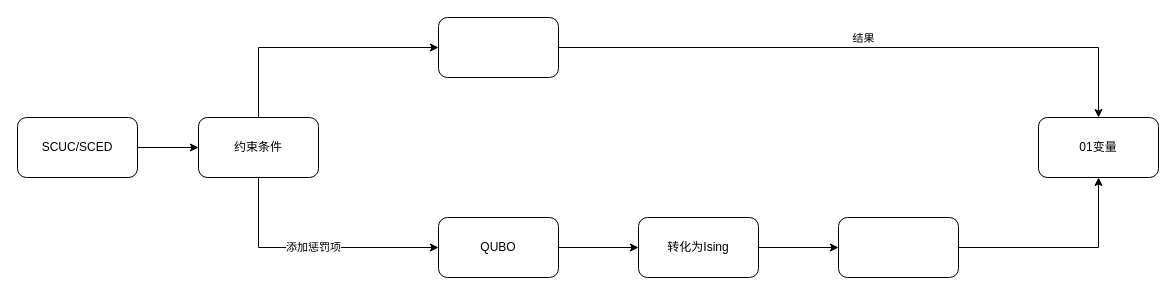
Some shapes in this 1176 by 295 pixel diagram are drawn without their labels. Each missing label, with the centre of its shape:
"CPLEX" belongs at (x=498, y=47).
"QAOA" belongs at (x=898, y=247).
